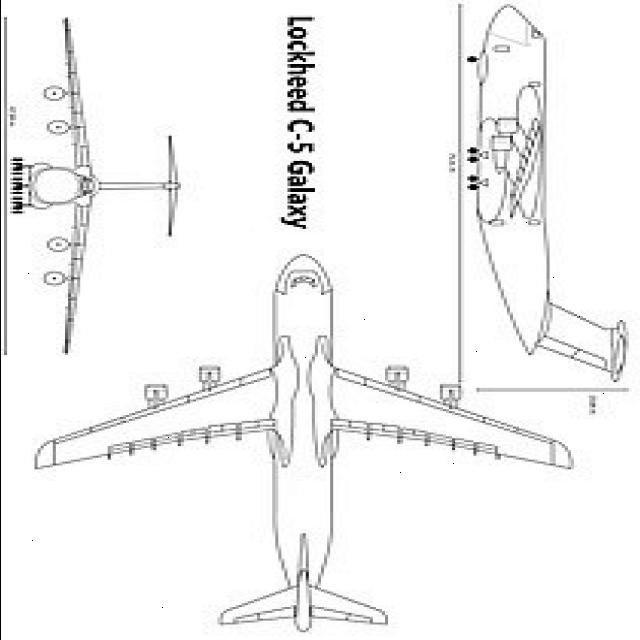C5: (24, 240, 580, 640), (0, 0, 221, 404), (420, 2, 640, 404)
